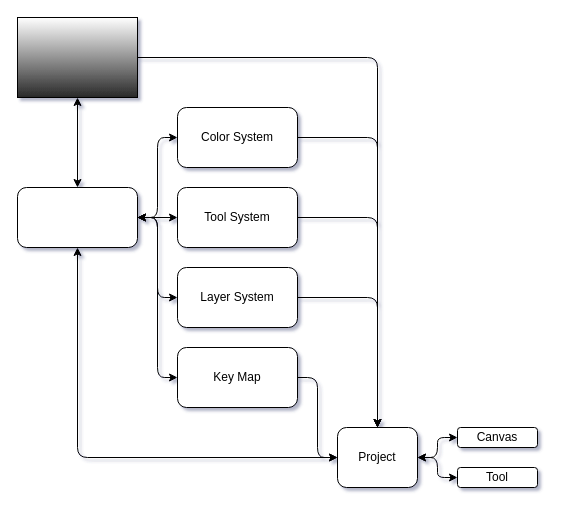
The diagram is 561 pixels wide and 511 high, and some of its shapes have lost their labels. Here are the shapes that lost their labels. From the top down, the centre of each, then its label:
At (77,57): "Colorful Pixels".
At (77,217): "Input-Output".
